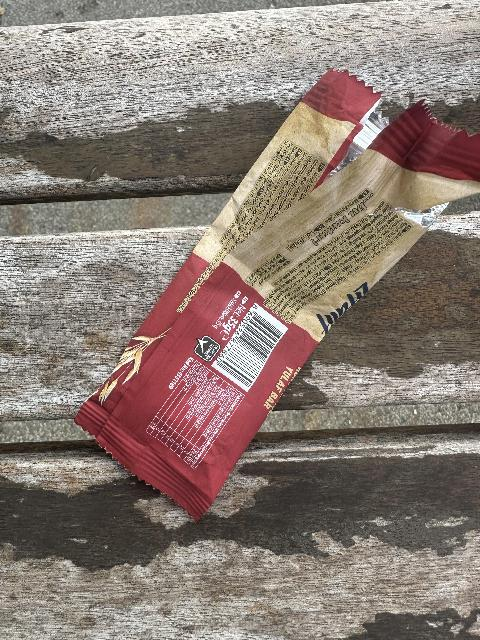Plastik: (81, 81, 478, 510)
